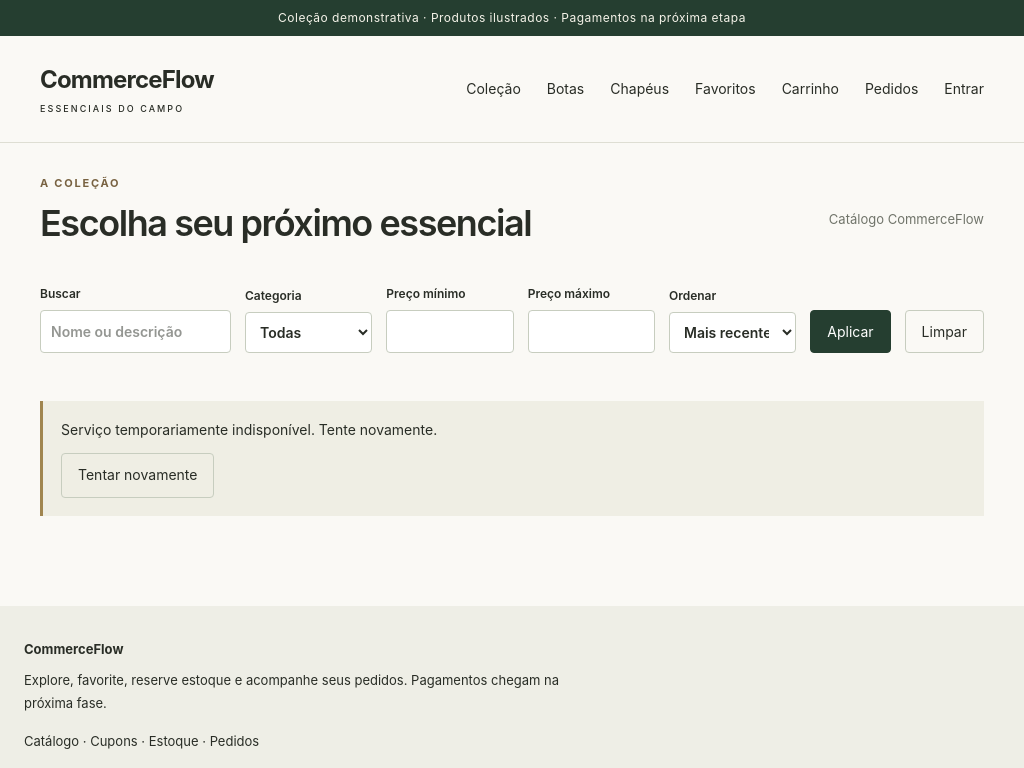
Catalog › shows an error and supports retrying a failed catalog request
Check: the message "Serviço temporariamente indisponível. Tente novamente. Tentar novamente" is shown, box left=40, top=401, right=984, bottom=516
Click the button "Tentar novamente" at (138, 475), box left=61, top=453, right=214, bottom=498
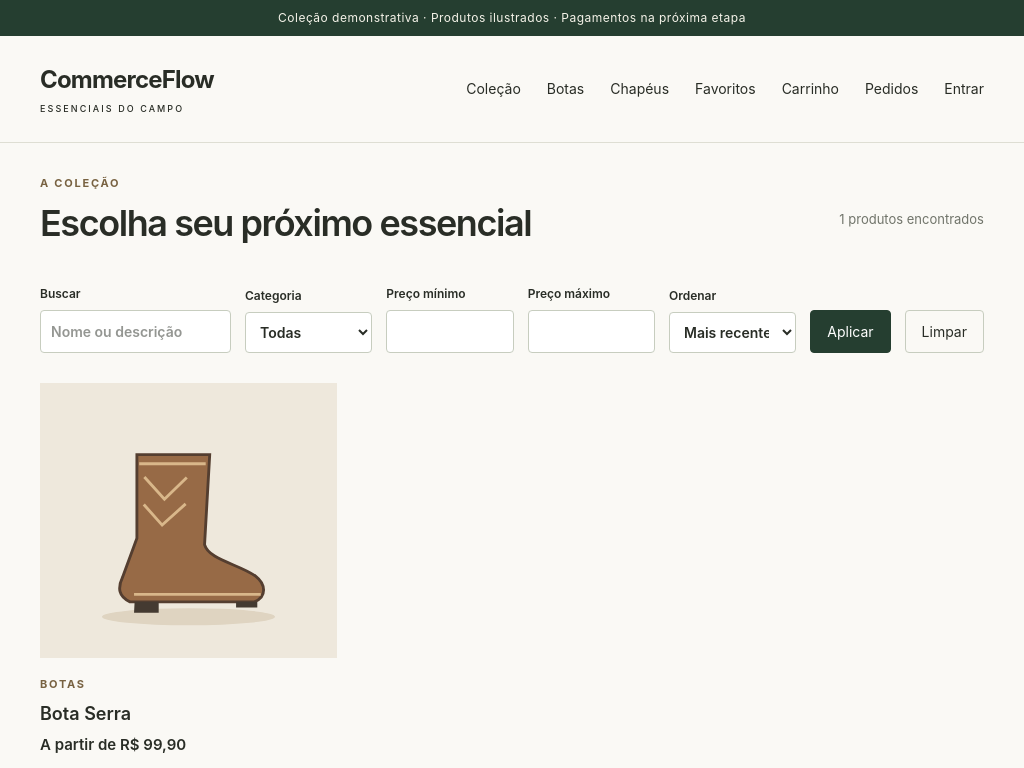
Check: the heading "Bota Serra" is shown, box left=40, top=702, right=131, bottom=724
